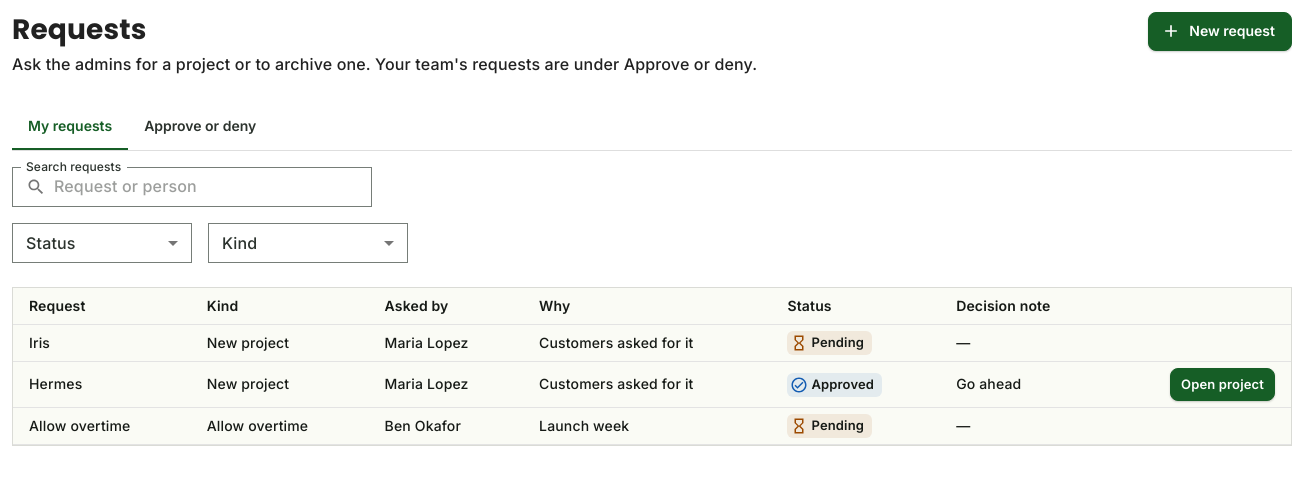
Scenario: RequestsPage › manager sees My requests and Approve or deny tabs; the second asks for scope=decide
Click the tab "Approve or deny": (200, 126) 128,102 -> 272,150
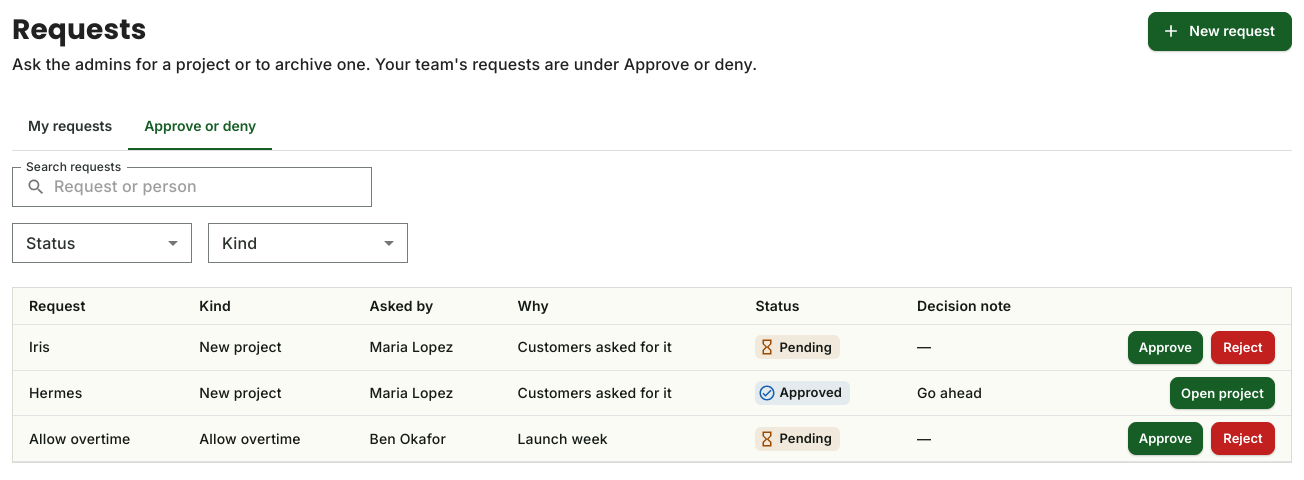
Expected: the button with aria-label "approve allow overtime" is shown, 1128,422 -> 1203,455
